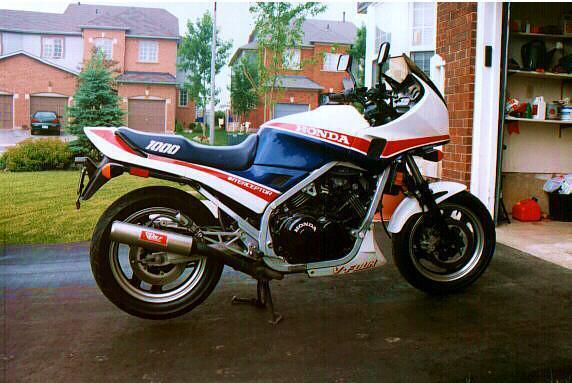motorcycle: (66, 39, 500, 326)
